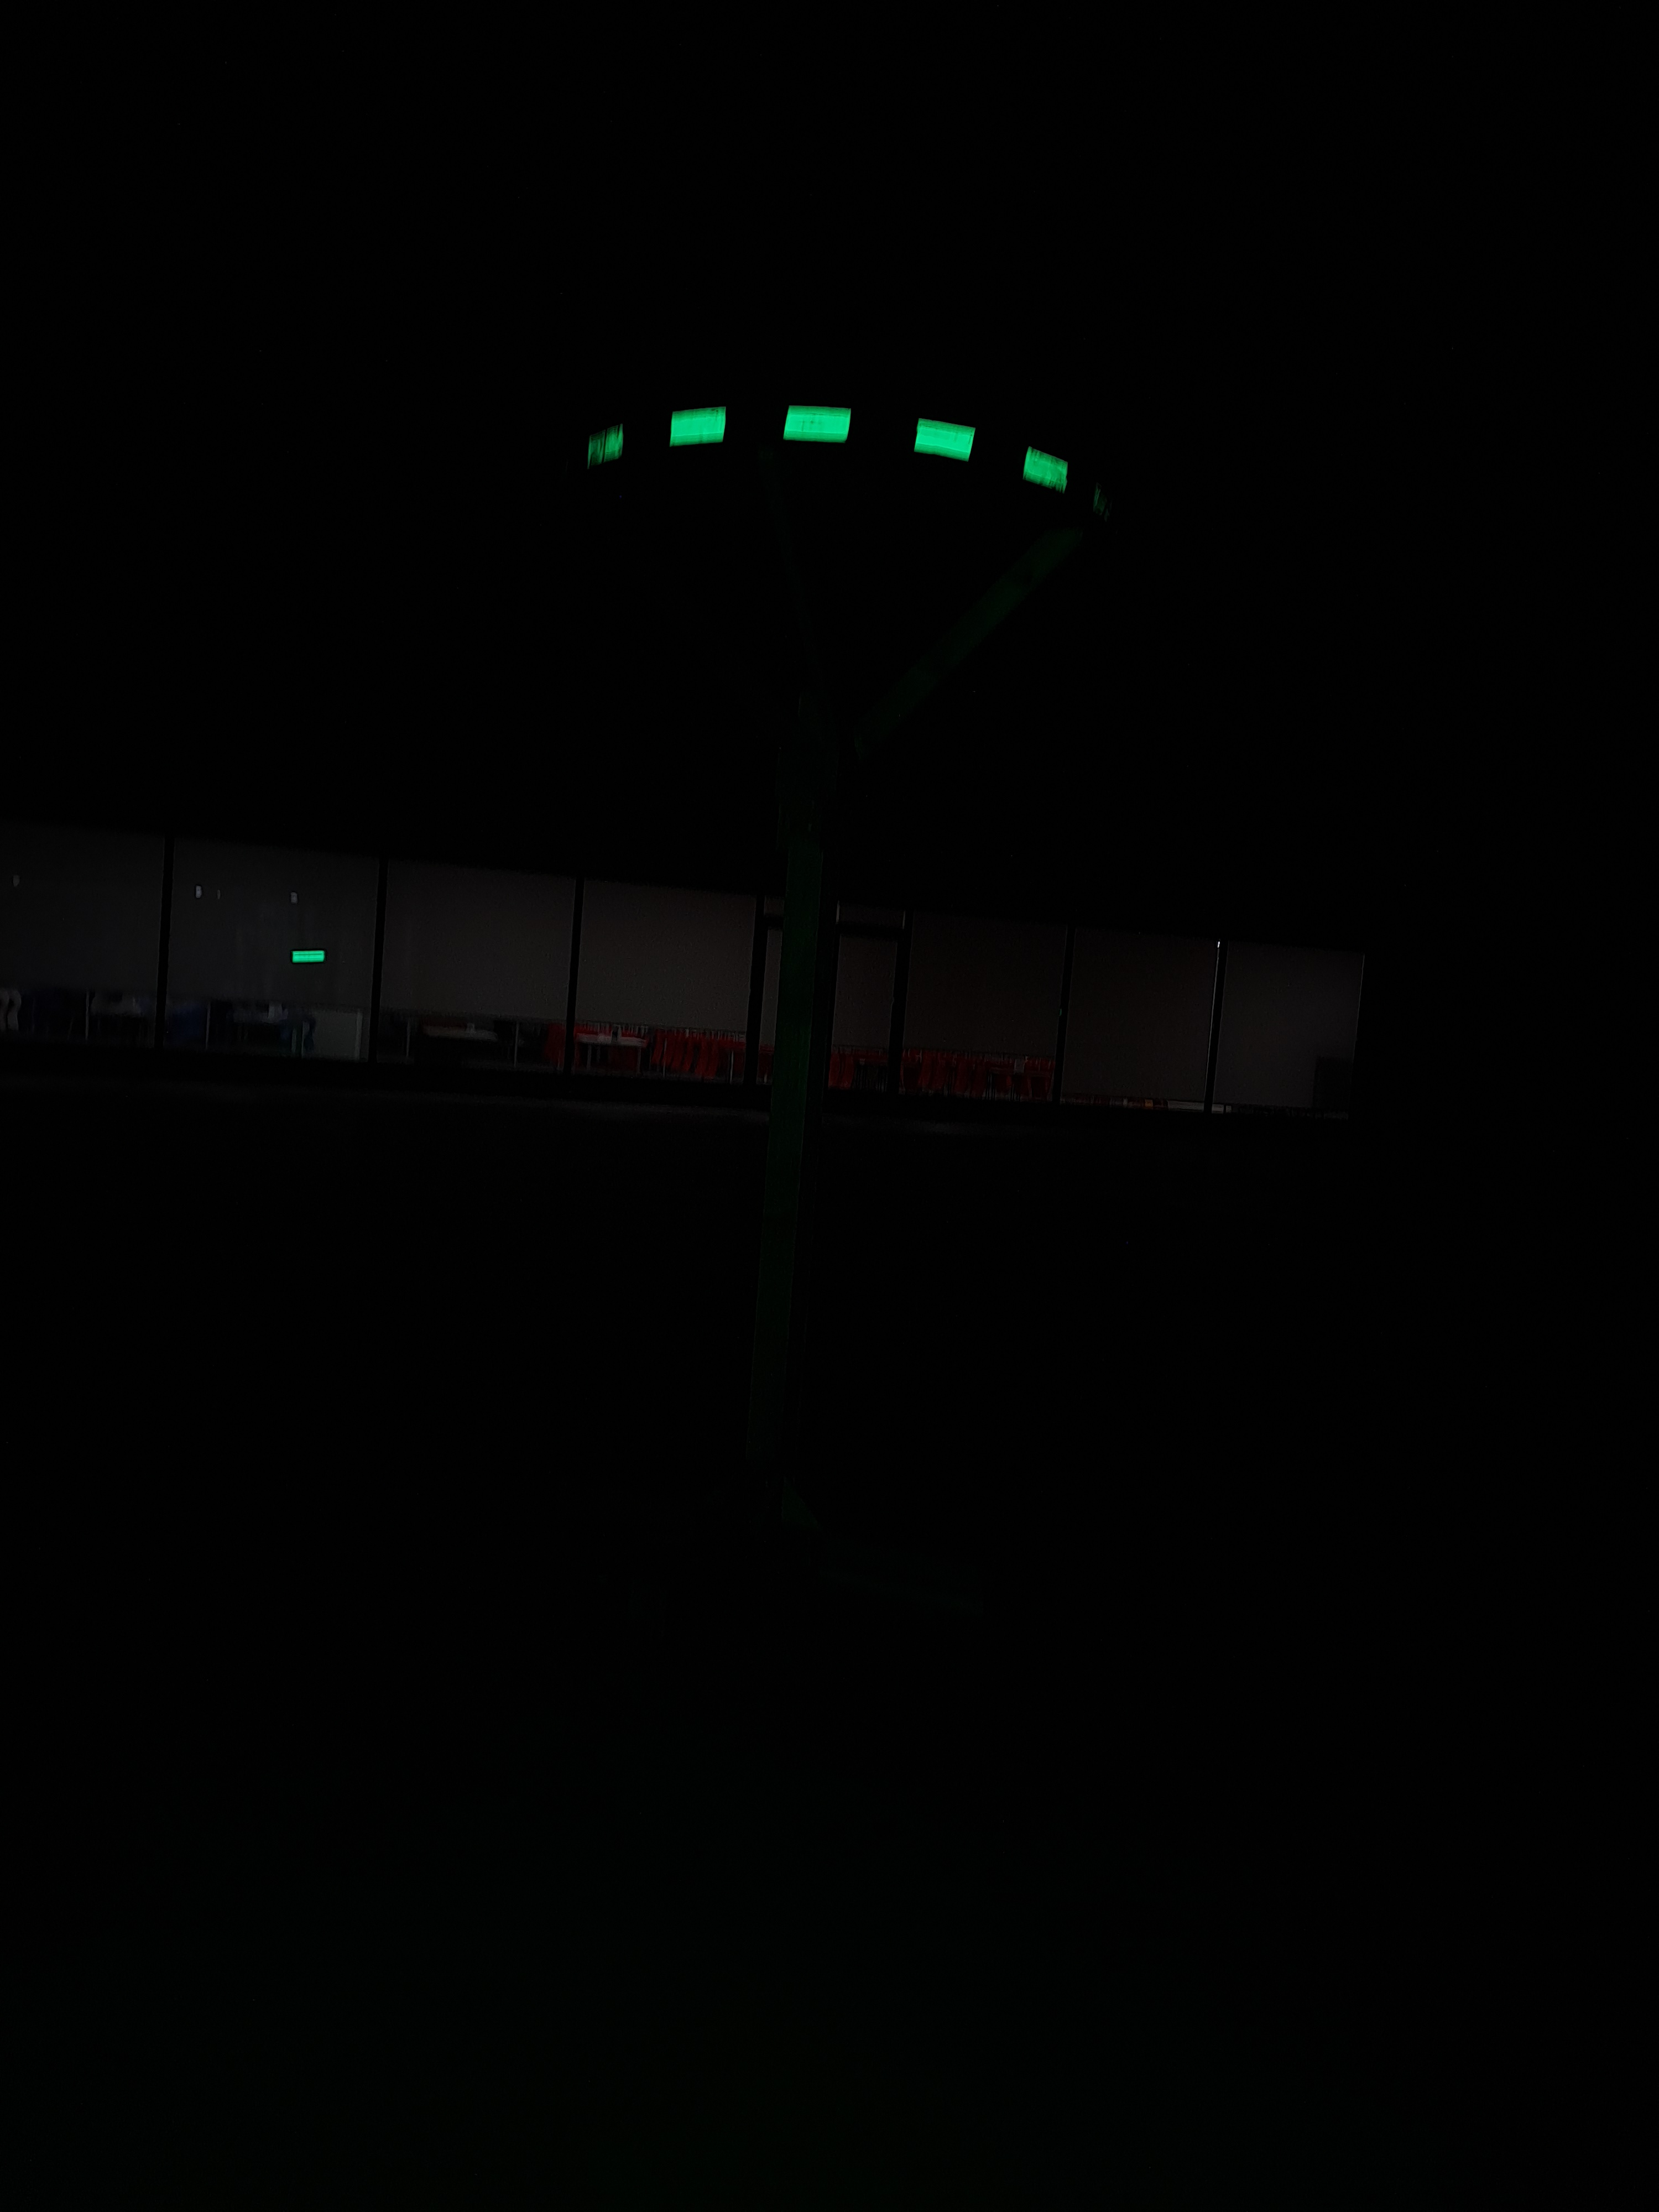hoop: (577, 397, 1070, 498)
